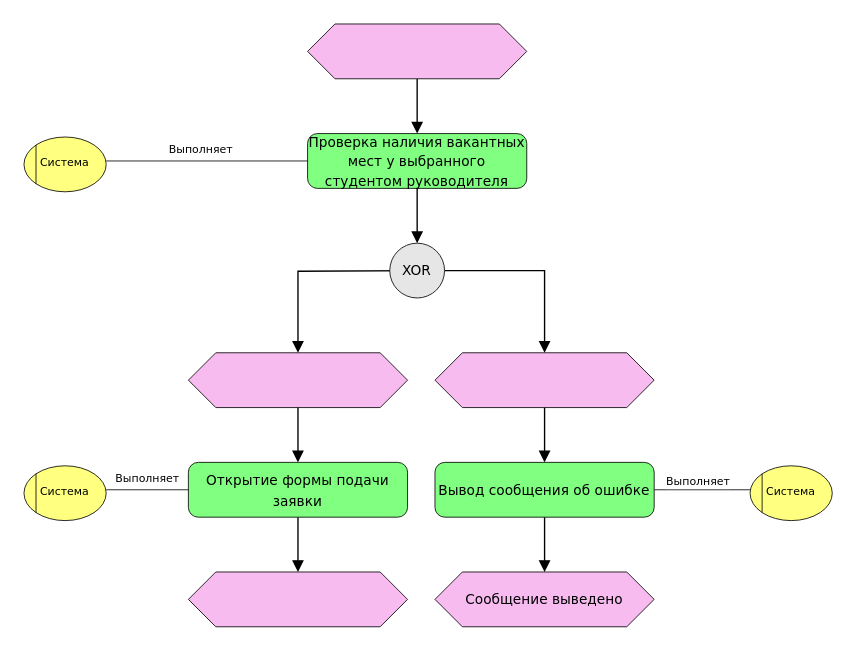
Some shapes in this 856 by 651 pixel diagram are drawn without their labels. Each missing label, with the centre of its shape:
Наличие вакантных мест не подтверждено: point (544, 379)
Наличие вакантных мест подтверждено: point (297, 379)
Руководитель выбран студентом: point (416, 51)
Форма открыта: point (297, 599)
